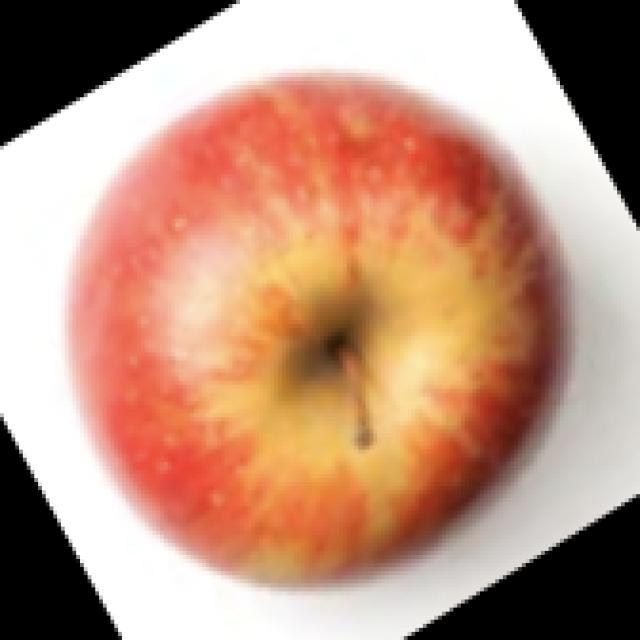Apple: (64, 68, 553, 586)
